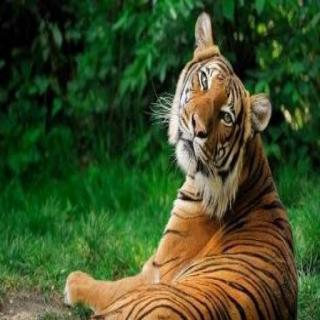Tiger: (62, 3, 305, 320)
